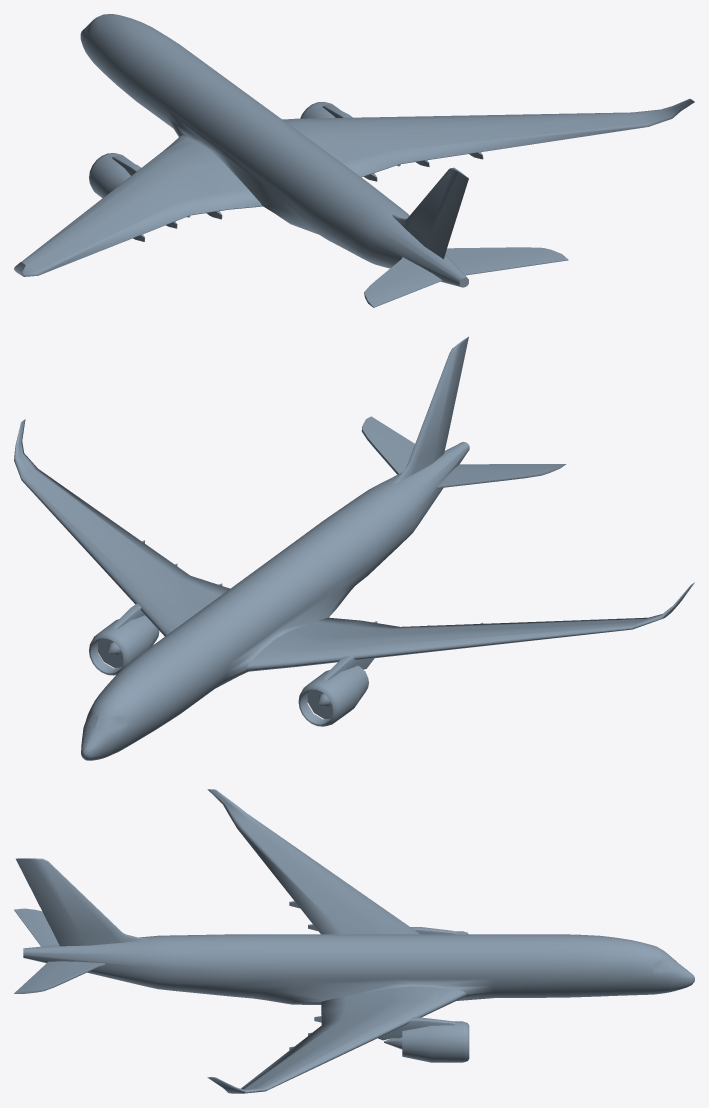
3 renders of one model, top to bottom at view 1: azimuth 30°, elevation 25°; view 2: azimuth 150°, elevation 25°; view 3: azimuth 270°, elevation 25°, orthographic. The views are drawn at different scales.
Visible parts, largest first — view 1: body; view 2: body; view 3: body.
Boxes of the visible parts, bbox=[...] form: body: bbox=[14, 14, 694, 307]; body: bbox=[14, 336, 694, 760]; body: bbox=[14, 789, 694, 1093].
Bounding box in the file's own units: 67.47 × 17.19 × 67.41.
